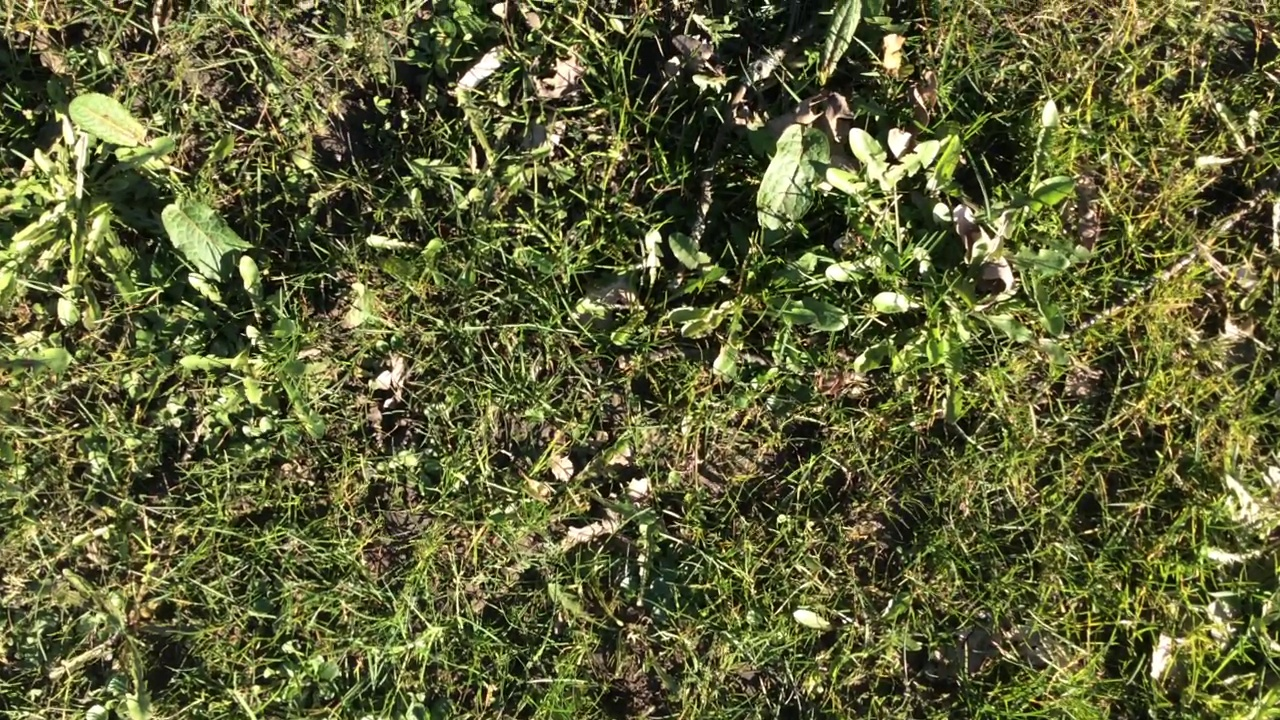rumex: (758, 125, 826, 242), (163, 196, 244, 285), (69, 95, 144, 148), (824, 1, 861, 72), (669, 235, 701, 269)
